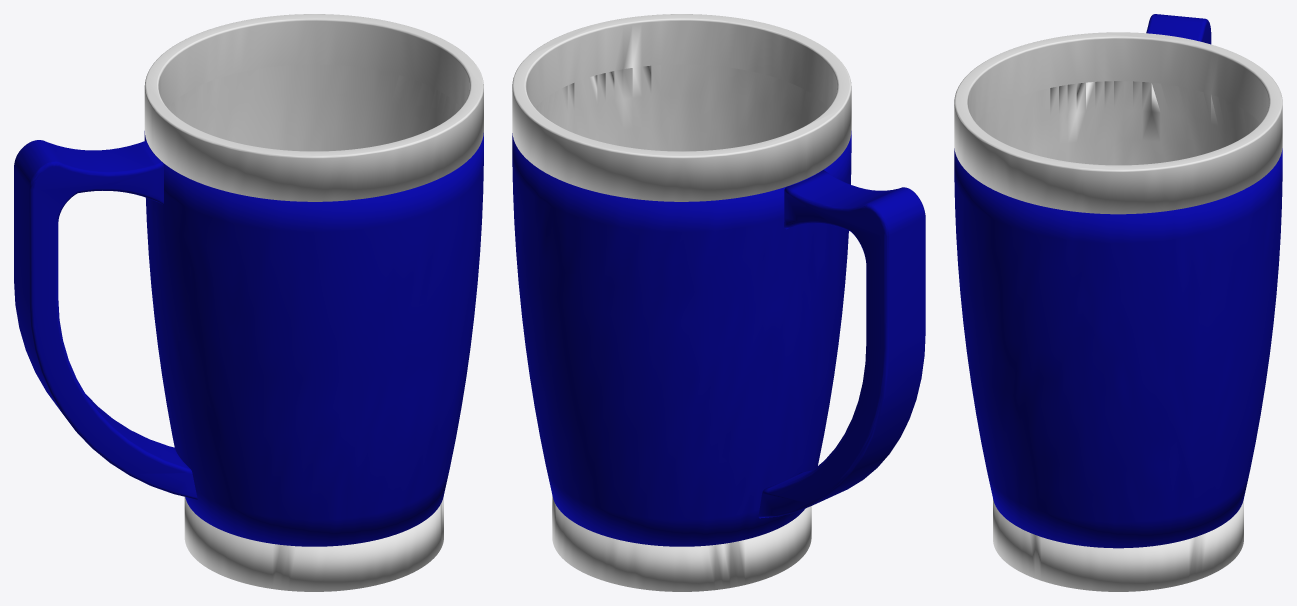
3 views of the same model, side by side, from view 1: azimuth 30°, elevation 25°; view 2: azimuth 150°, elevation 25°; view 3: azimuth 270°, elevation 25° (orthographic). The views are drawn at different scales.
Parts seen in each view (by area): view 1: mug_base; view 2: mug_base; view 3: mug_base.
Boxes of the visible parts, left/top/right/bottom form: mug_base: left=14, top=14, right=483, bottom=591; mug_base: left=512, top=14, right=925, bottom=591; mug_base: left=954, top=14, right=1282, bottom=591.
Bounding box in the file's own units: 0.1311 × 0.0938 × 0.138.
